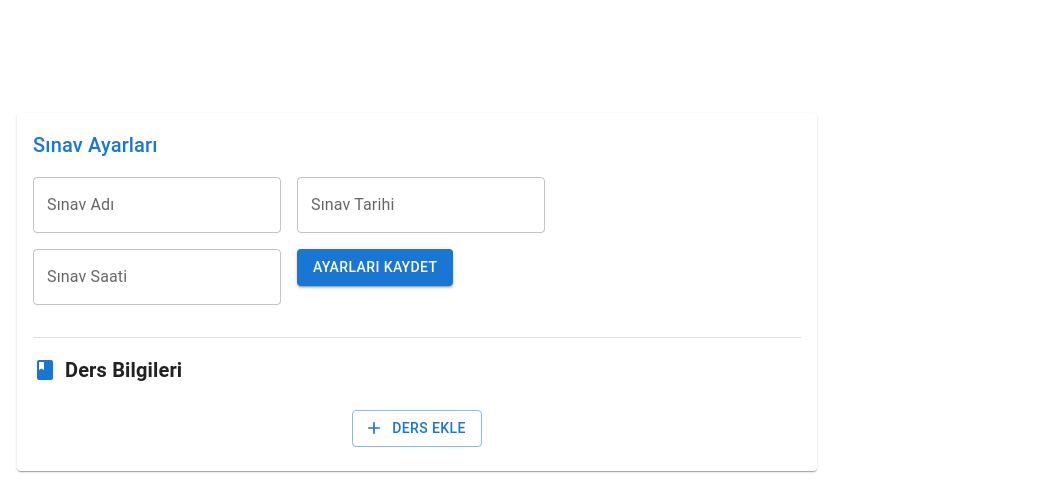
AyarlarFormu Component › should validate required fields
The image size is (1057, 490).
Click the button "Ayarları Kaydet".
click(375, 267)  # box x1=297 y1=249 x2=453 y2=286
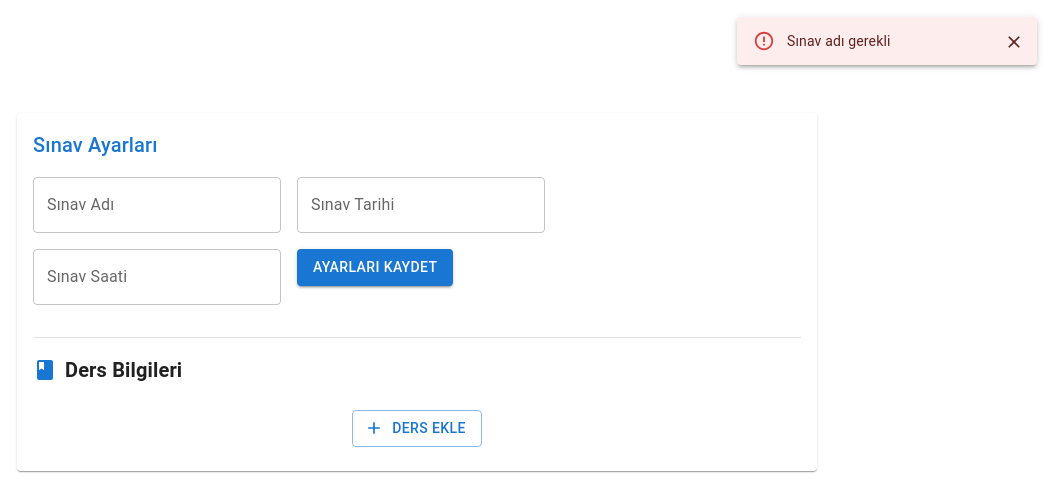
Check: the text "Sınav adı gerekli" is shown, box x1=787 y1=33 x2=890 y2=49
